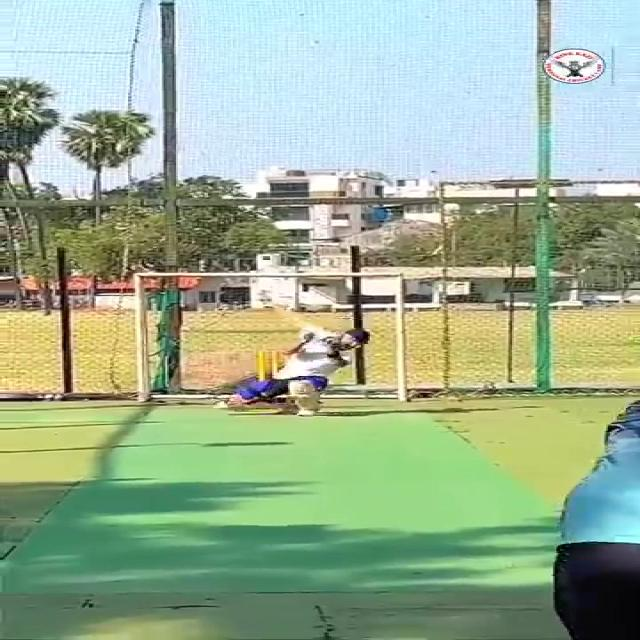batsman: (205, 296, 375, 420)
